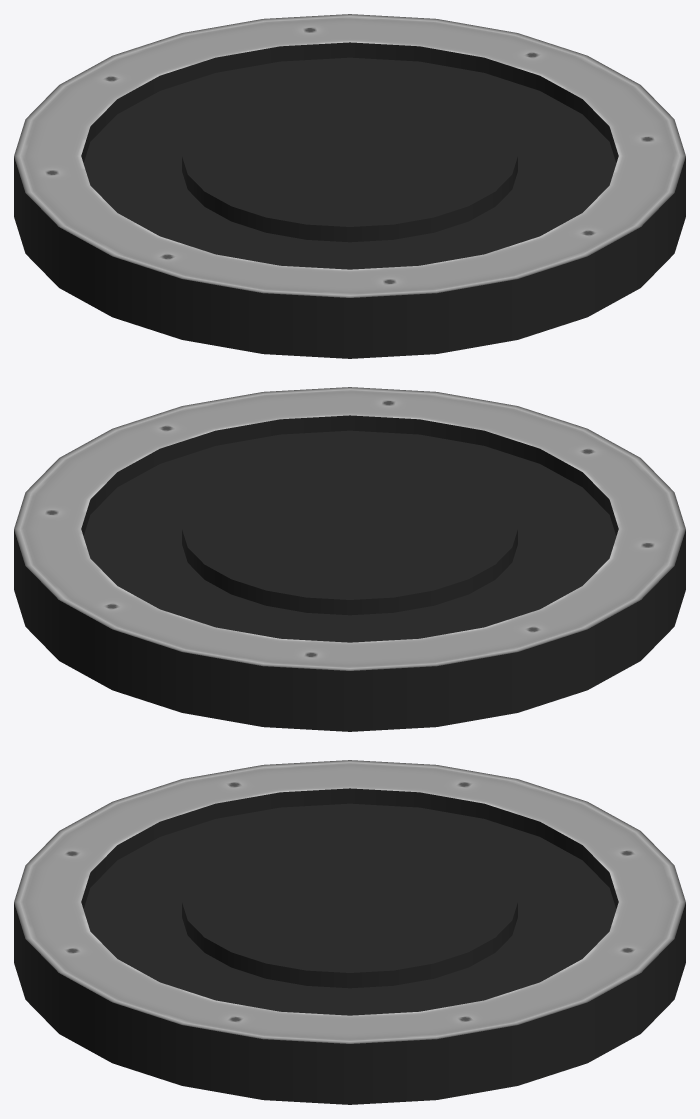
Rendered from Arrow_Fairing_1_1.obj.
The picture shows the model from 3 angles, top to bottom: view 1: azimuth 30°, elevation 25°; view 2: azimuth 150°, elevation 25°; view 3: azimuth 270°, elevation 25°; orthographic projection.
Parts seen in each view (by area): view 1: Arrow_Decoupler_1_1; view 2: Arrow_Decoupler_1_1; view 3: Arrow_Decoupler_1_1.
Boxes of the visible parts, x1=… form: Arrow_Decoupler_1_1: x1=14, y1=14, x2=685, y2=358; Arrow_Decoupler_1_1: x1=14, y1=387, x2=685, y2=731; Arrow_Decoupler_1_1: x1=14, y1=760, x2=685, y2=1104.
Bounding box in the file's own units: 1.25 × 0.125 × 1.25.
